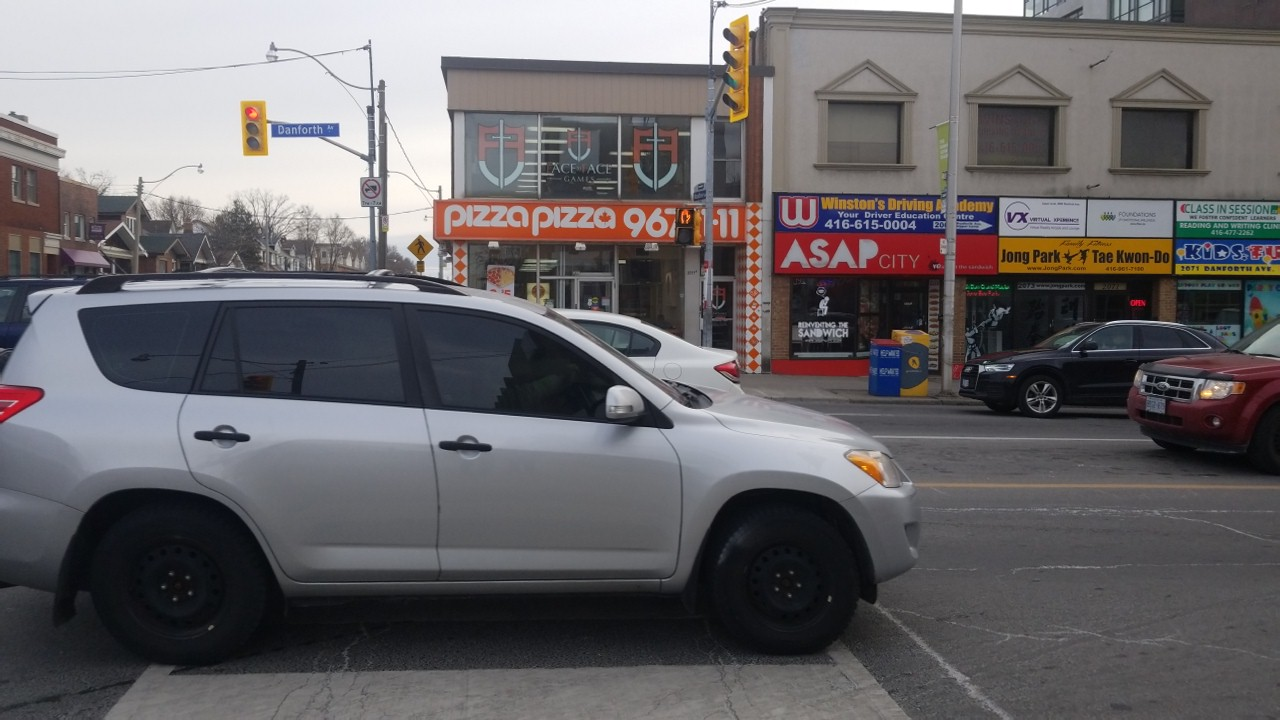light: (673, 204, 696, 248)
